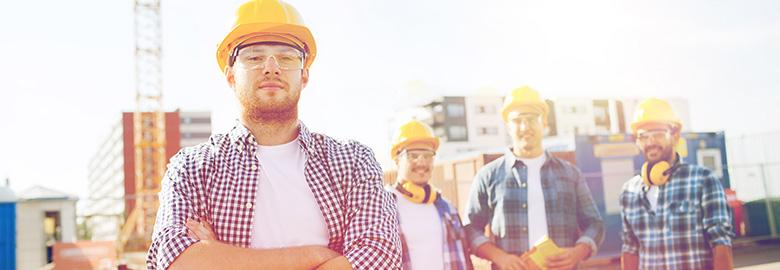helmet: (213, 1, 318, 67), (386, 115, 450, 158), (634, 98, 685, 138), (504, 88, 554, 127)
